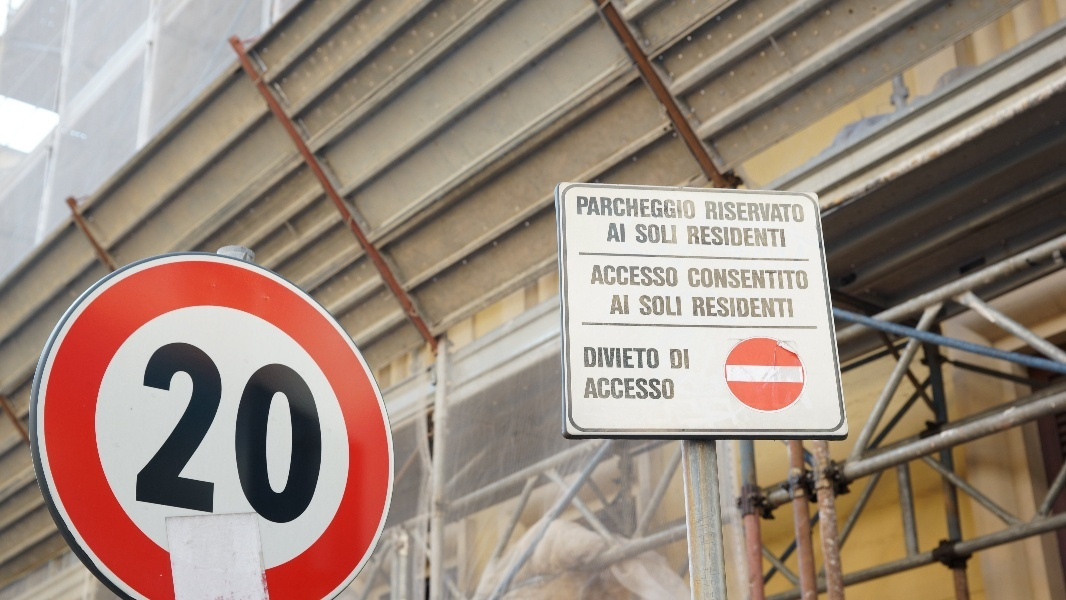text: (161, 335, 176, 528), (177, 335, 192, 528), (193, 335, 208, 528), (209, 335, 224, 528), (225, 335, 240, 528), (241, 335, 256, 528), (257, 335, 272, 528), (273, 335, 288, 528), (289, 335, 304, 528), (305, 335, 320, 528), (149, 335, 160, 528), (321, 335, 325, 528), (577, 196, 592, 220), (593, 196, 608, 220), (609, 196, 624, 220), (625, 196, 640, 220), (641, 196, 656, 220), (657, 196, 672, 220), (673, 196, 688, 220), (705, 200, 720, 224), (721, 200, 736, 224), (737, 200, 752, 224), (753, 200, 768, 224), (769, 200, 784, 224), (785, 200, 800, 224), (689, 226, 704, 248), (705, 226, 720, 248), (721, 226, 736, 248), (737, 226, 752, 248), (753, 226, 768, 248), (769, 226, 784, 248), (609, 266, 624, 288), (625, 266, 640, 288), (641, 266, 656, 288), (657, 266, 672, 288), (689, 268, 704, 290), (705, 268, 720, 290), (721, 268, 736, 290), (737, 268, 752, 290), (753, 268, 768, 290), (769, 268, 784, 290), (785, 268, 800, 290), (641, 295, 656, 317), (657, 295, 672, 317), (593, 347, 608, 369), (609, 347, 624, 369), (625, 347, 640, 369), (641, 347, 656, 369), (593, 378, 608, 400), (609, 378, 624, 400), (625, 378, 640, 400), (641, 378, 656, 400), (657, 378, 672, 400), (705, 297, 720, 318), (721, 297, 736, 318), (737, 297, 752, 318), (753, 297, 768, 318), (769, 297, 784, 318), (673, 349, 688, 370), (641, 224, 656, 244), (657, 224, 672, 244), (595, 266, 608, 288), (610, 223, 624, 243), (692, 297, 704, 318), (613, 295, 624, 315), (673, 295, 683, 317), (785, 297, 795, 318), (689, 196, 697, 220), (801, 268, 809, 290), (584, 347, 592, 369), (673, 266, 679, 288), (587, 378, 592, 400), (635, 224, 640, 244), (673, 224, 678, 244), (625, 295, 630, 315), (801, 200, 805, 224), (657, 347, 660, 369), (673, 378, 676, 400), (785, 226, 787, 248), (670, 349, 672, 370), (687, 226, 688, 248), (687, 268, 688, 290), (639, 295, 640, 317), (689, 349, 690, 370), (625, 223, 626, 243)
